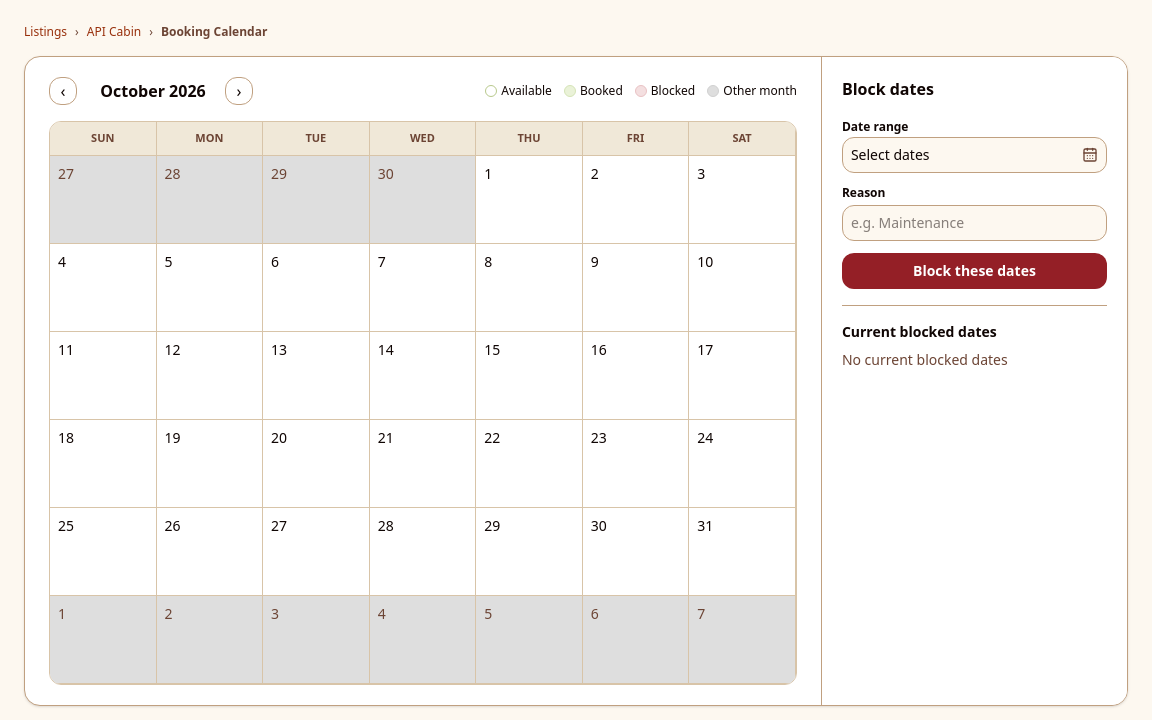
Test case: Host calendar page › shows the generic listing error when a previous-month request fails
Expected: the heading "October 2026" is shown, [100, 80, 206, 102]
Click the button named "Previous month".
click(63, 91)  # box [49, 77, 77, 105]
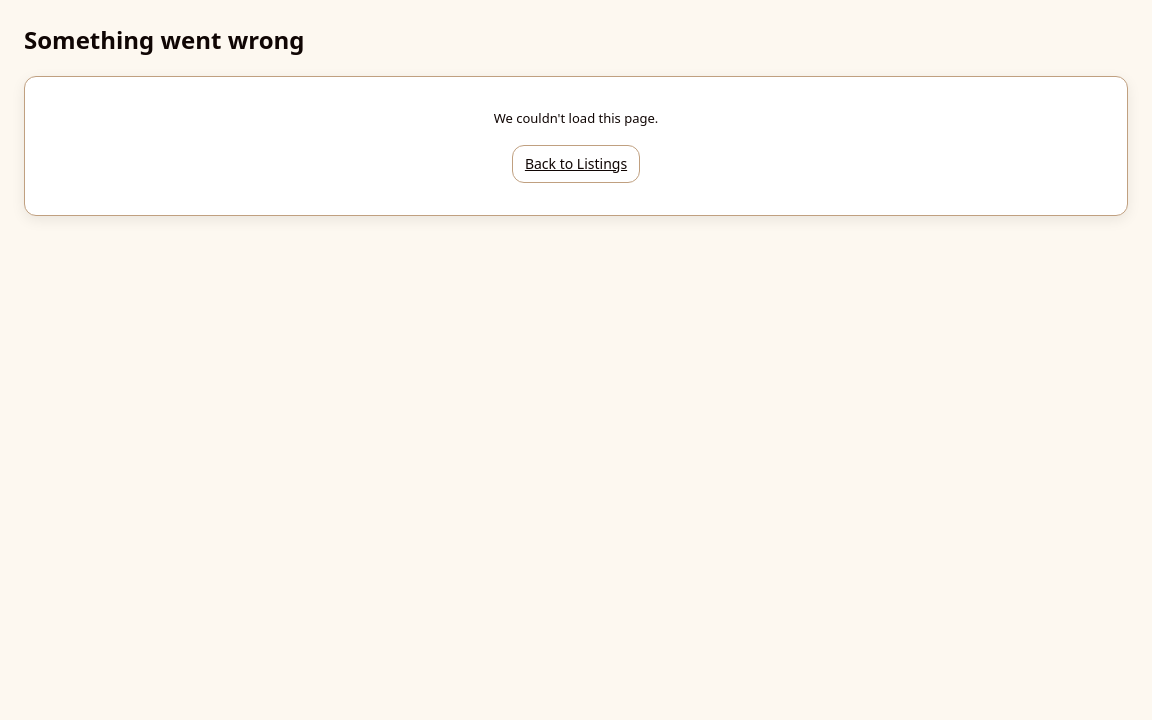
Expected: the heading "Something went wrong" is shown, [24, 24, 304, 56]
